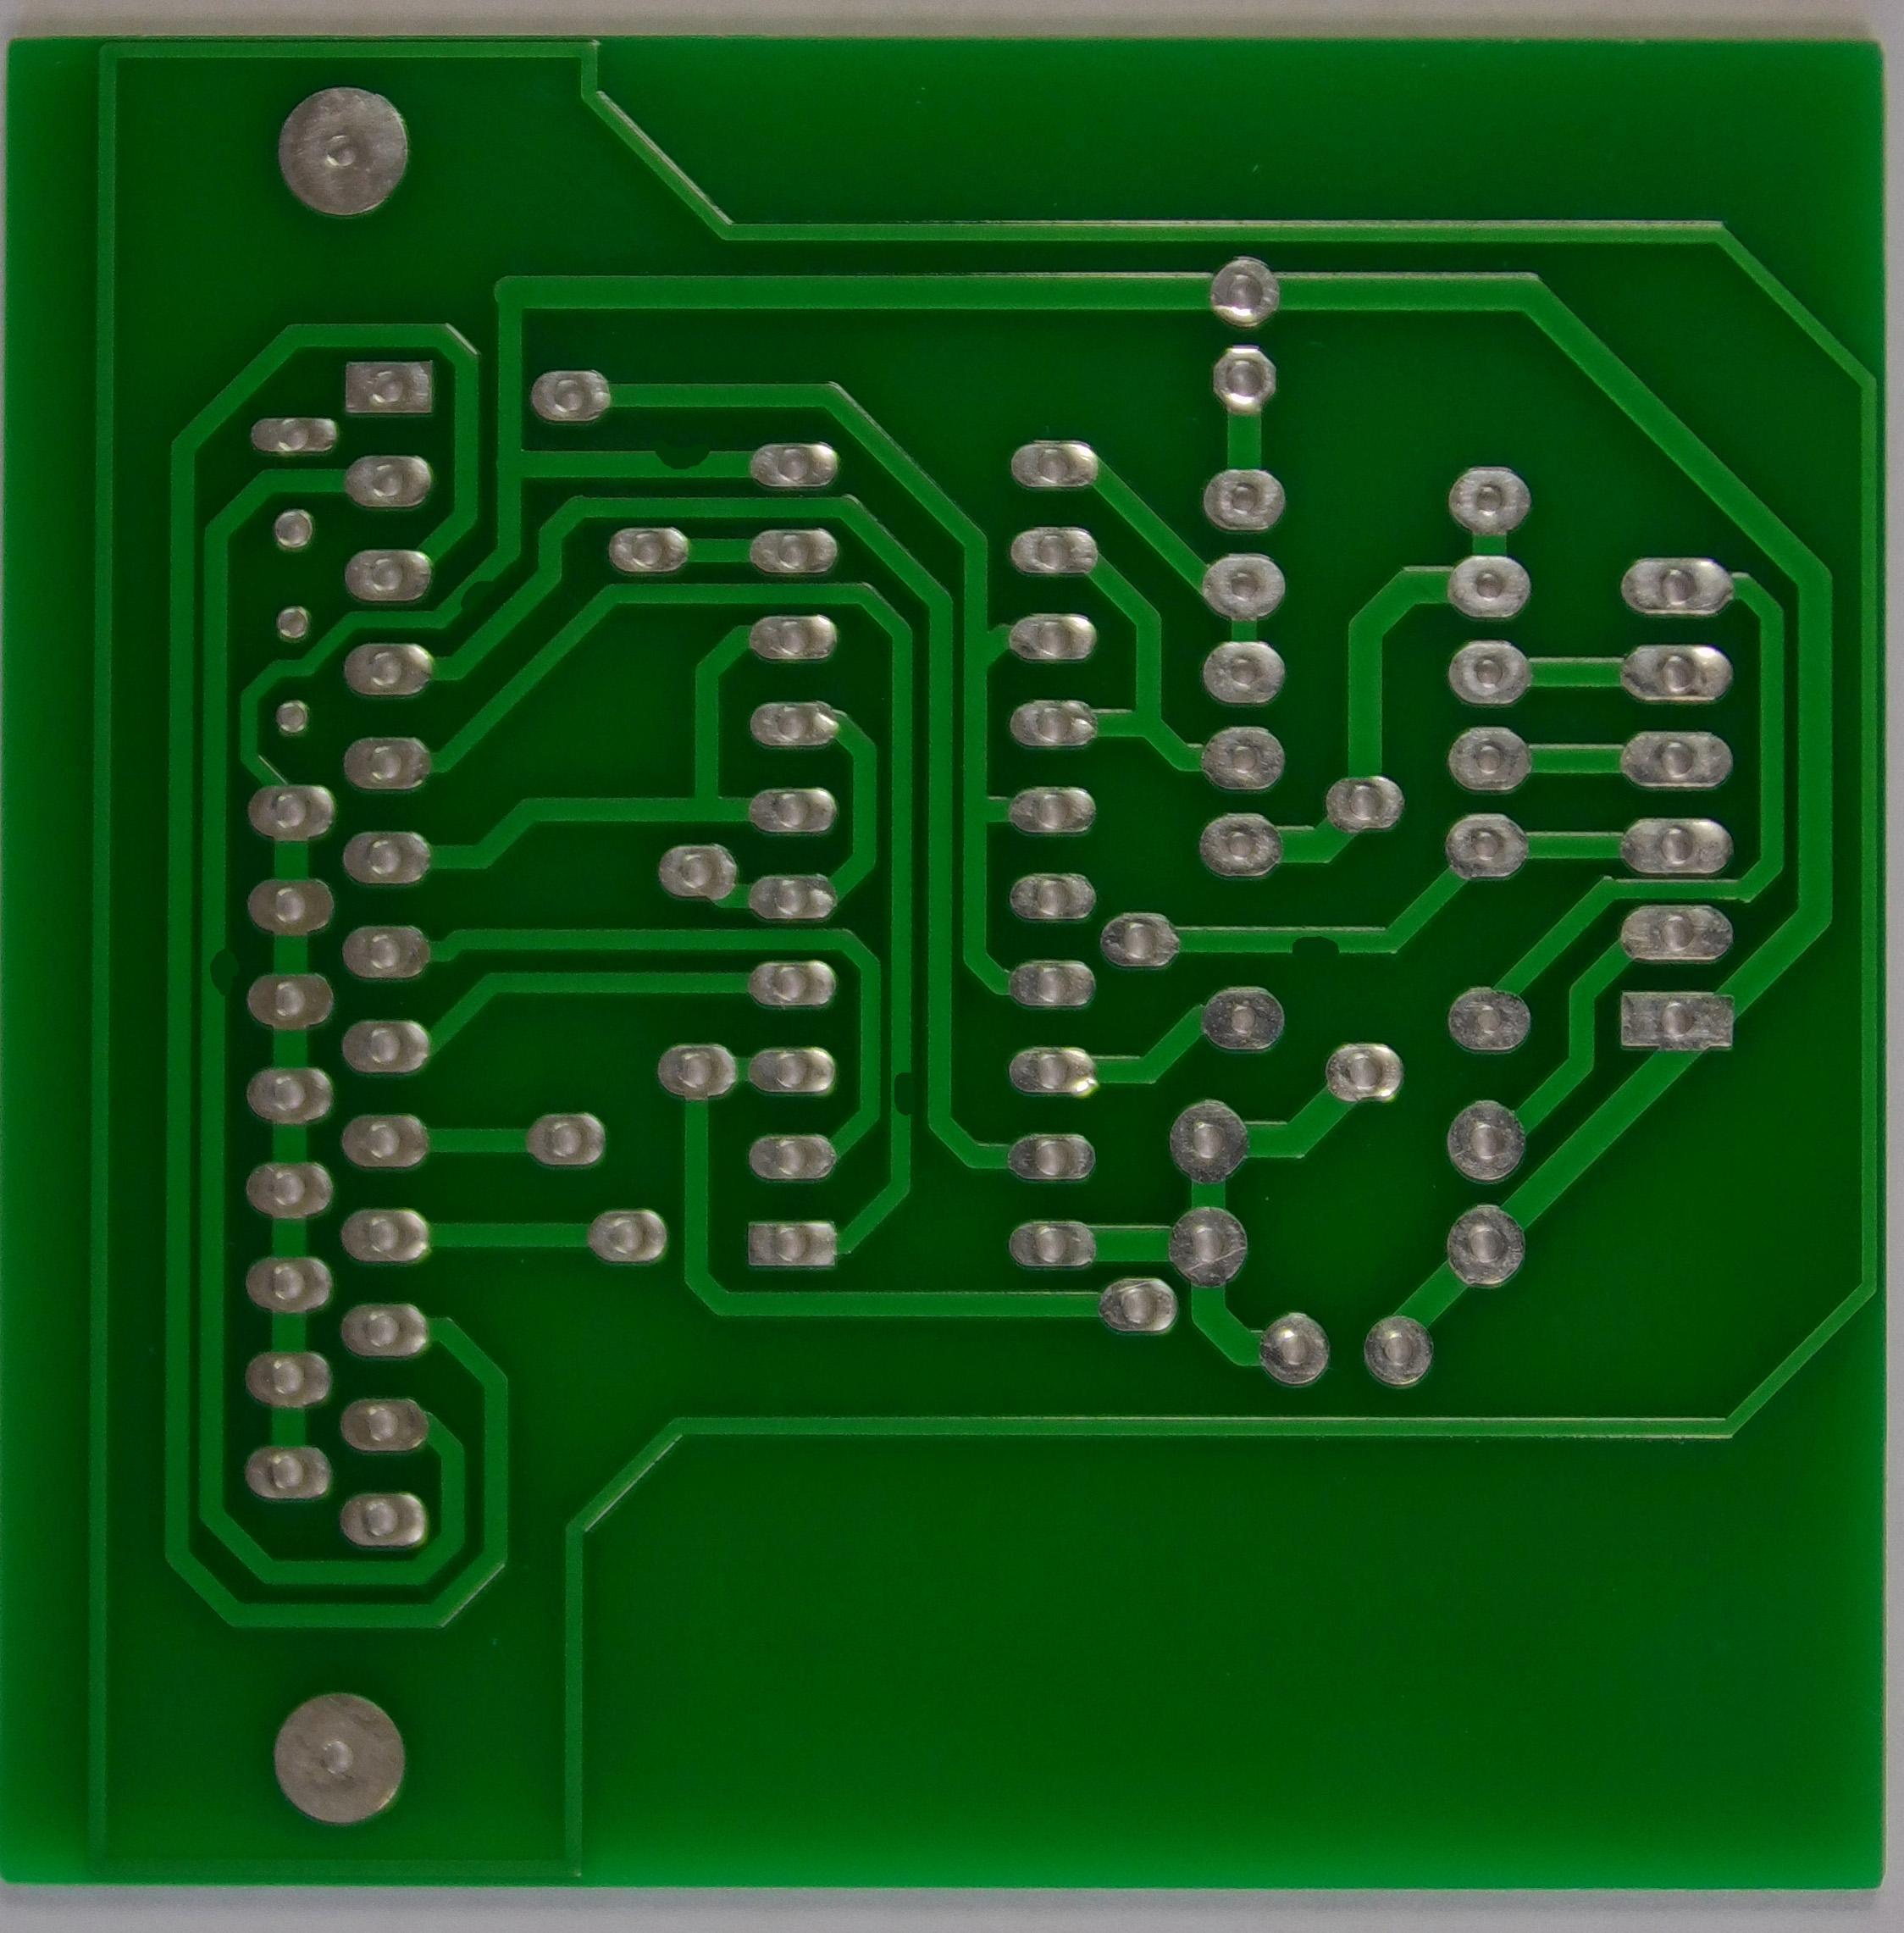mouse_bite: (636, 427, 725, 479), (199, 941, 265, 1009), (448, 560, 507, 624), (1271, 920, 1350, 967), (886, 1060, 926, 1122)
